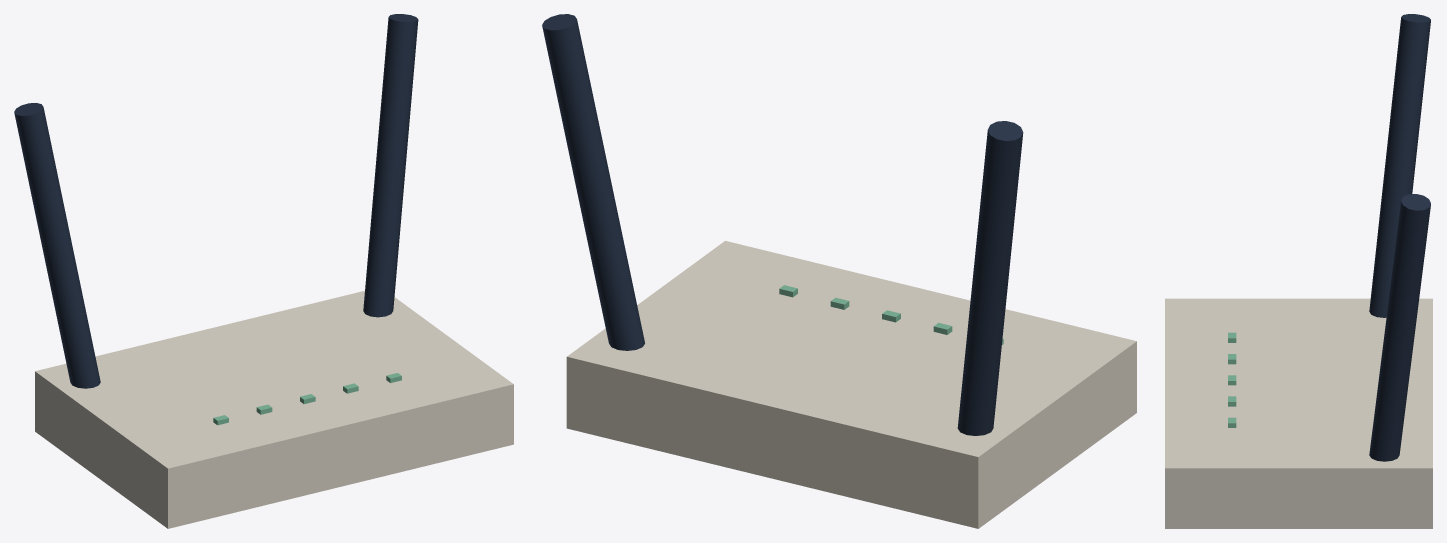
The model's file is officeRouter.glb.
3 views of the same model, side by side, from view 1: azimuth 30°, elevation 25°; view 2: azimuth 150°, elevation 25°; view 3: azimuth 270°, elevation 25° (orthographic). The views are drawn at different scales.
Bounding box in the file's own units: 0.2778 × 0.2217 × 0.16.
